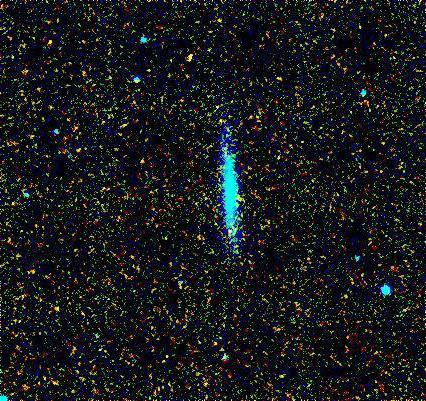star: (177, 52, 207, 82)
